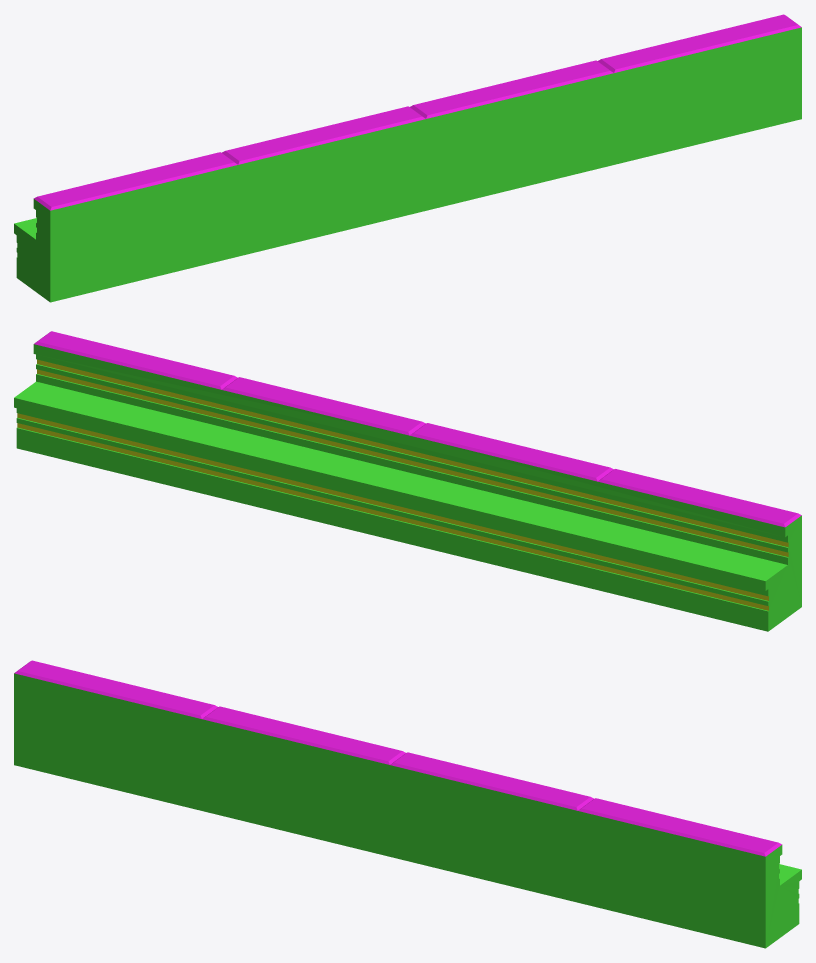
Rendered from Floor_10_Deco_Straight.fbx.
3 views of the same model, one above another, from view 1: azimuth 30°, elevation 25°; view 2: azimuth 150°, elevation 25°; view 3: azimuth 330°, elevation 25° (orthographic).
Visible parts, largest first — view 1: Floor_10_Deco_Straight; view 2: Floor_10_Deco_Straight; view 3: Floor_10_Deco_Straight.
Part boxes in pixels (x1=…): Floor_10_Deco_Straight: x1=14, y1=14, x2=801, y2=302; Floor_10_Deco_Straight: x1=14, y1=331, x2=801, y2=631; Floor_10_Deco_Straight: x1=14, y1=660, x2=801, y2=948.
Size of the model in its own units: 457 by 54.62 by 38.23.
